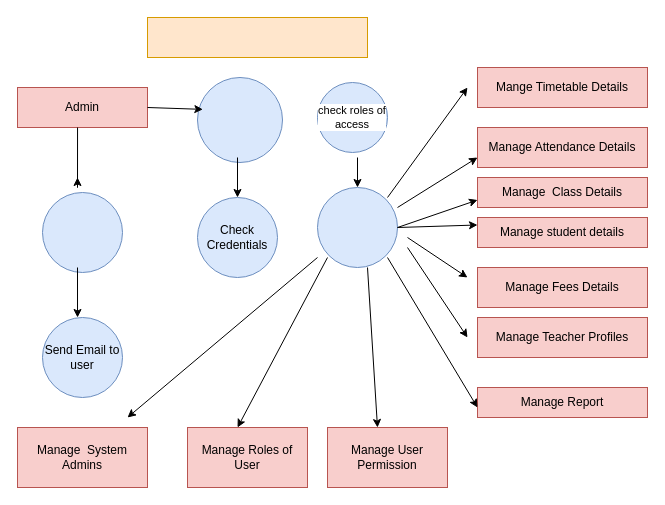
Some shapes in this 665 by 505 pixel diagram are drawn without their labels. The box of each missing label's shape, as (x1, y1, x2, y2) in pixels:
Forgot Password: (42, 192, 122, 272)
Login to System: (196, 76, 282, 162)
Manage molecules: (316, 186, 398, 268)
Student Information System: (146, 16, 368, 58)
